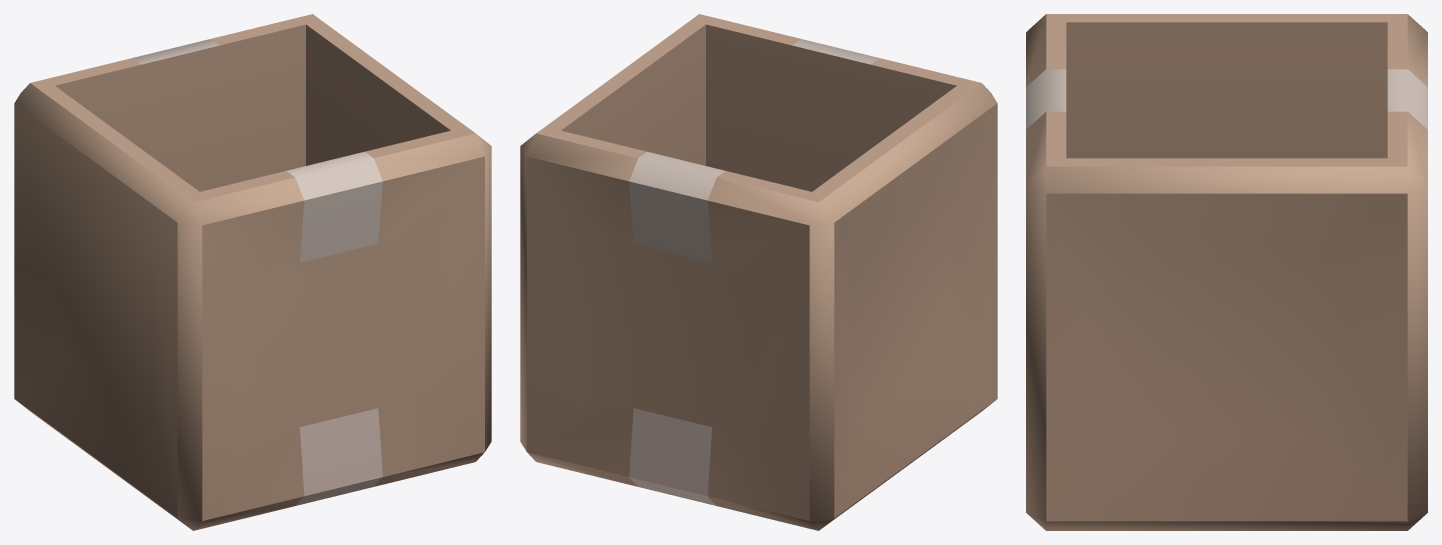
File: cardboard-box-empty_0.glb
3 renders of one model, left to right at view 1: azimuth 30°, elevation 25°; view 2: azimuth 150°, elevation 25°; view 3: azimuth 270°, elevation 25°, orthographic. The views are drawn at different scales.
Visible parts, largest first — view 1: cardboard-box-empty; view 2: cardboard-box-empty; view 3: cardboard-box-empty.
Part boxes in pixels (x1=…): cardboard-box-empty: x1=14, y1=14, x2=491, y2=530; cardboard-box-empty: x1=520, y1=14, x2=997, y2=530; cardboard-box-empty: x1=1026, y1=14, x2=1427, y2=530.
Bounding box in the file's own units: 0.375 × 0.375 × 0.375.
